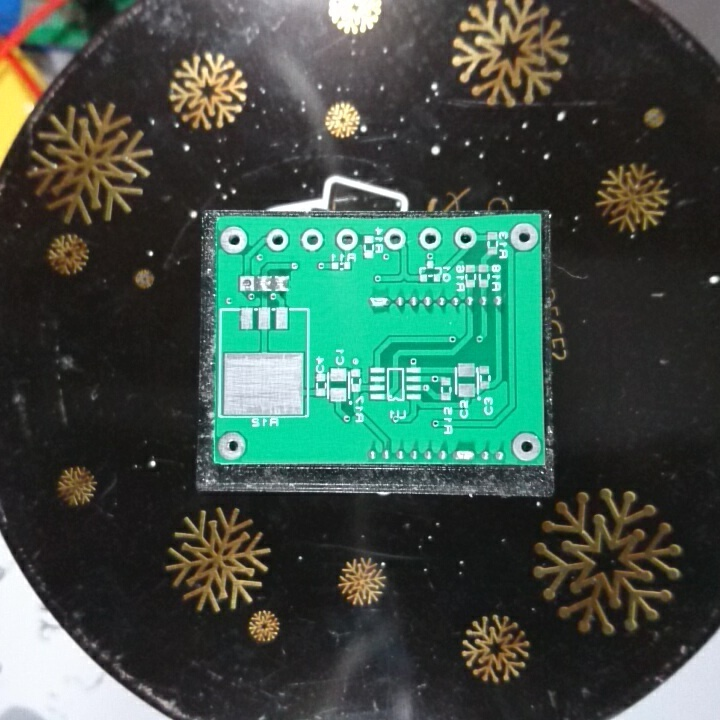F: (216, 221, 250, 258), (213, 430, 248, 464), (509, 429, 543, 463), (507, 219, 540, 254), (416, 223, 446, 255), (263, 223, 292, 255), (296, 225, 325, 255), (380, 225, 410, 254), (331, 225, 362, 252), (452, 224, 478, 252), (236, 274, 256, 294)
P: (366, 293, 394, 315), (450, 445, 476, 465)
